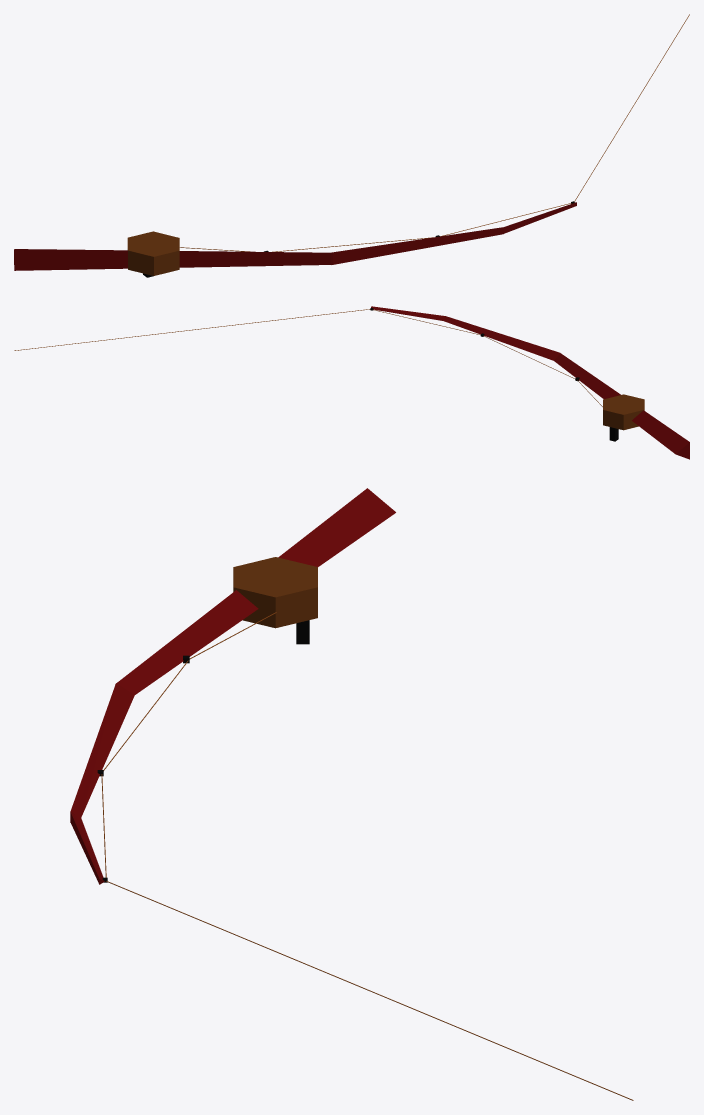
The model's file is wooden_fishing_rod.glb.
The picture shows the model from 3 angles, top to bottom: view 1: azimuth 30°, elevation 25°; view 2: azimuth 150°, elevation 25°; view 3: azimuth 270°, elevation 25°; orthographic projection. The views are drawn at different scales.
Parts seen in each view (by area): view 1: Object_2; view 2: Object_2; view 3: Object_2.
Boxes of the visible parts, box(x1,y1,x2,y2) form: Object_2: box(14, 14, 689, 277); Object_2: box(14, 306, 689, 459); Object_2: box(70, 488, 633, 1100).
Size of the model in its own units: 2 by 0.1 by 0.8.
